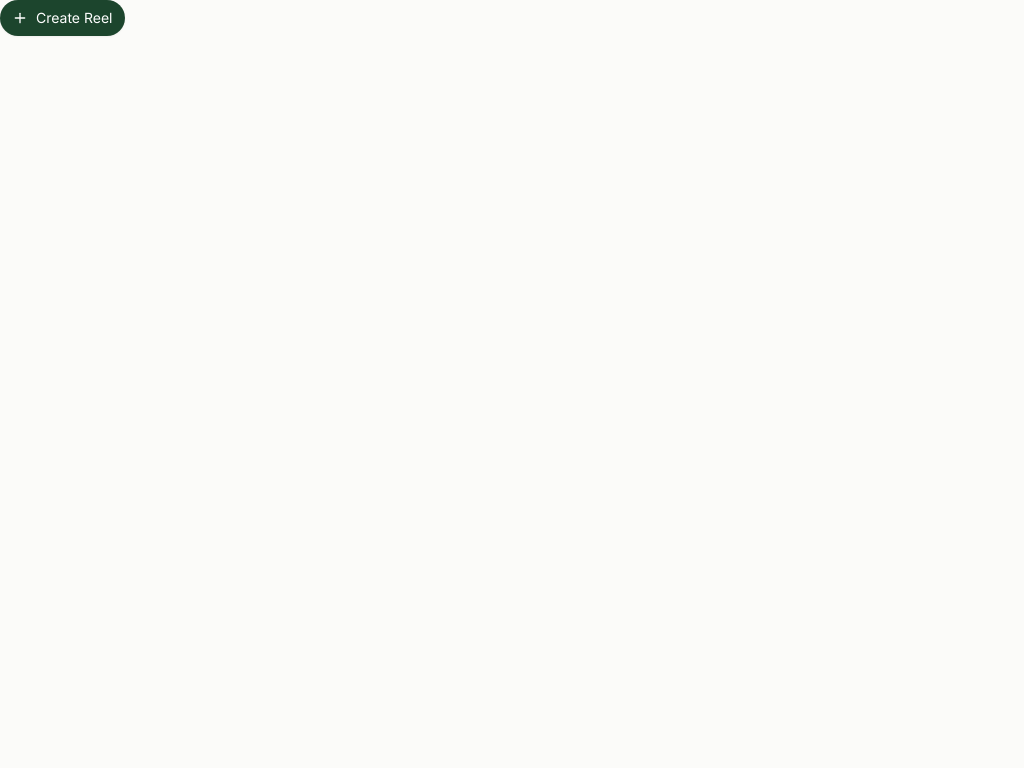
Test: CreateBookReelDialog › switches visibility between public, friends, and unlisted
The image size is (1024, 768).
Click the button "Create Reel". click: (62, 18)
box: [0,0,124,36]
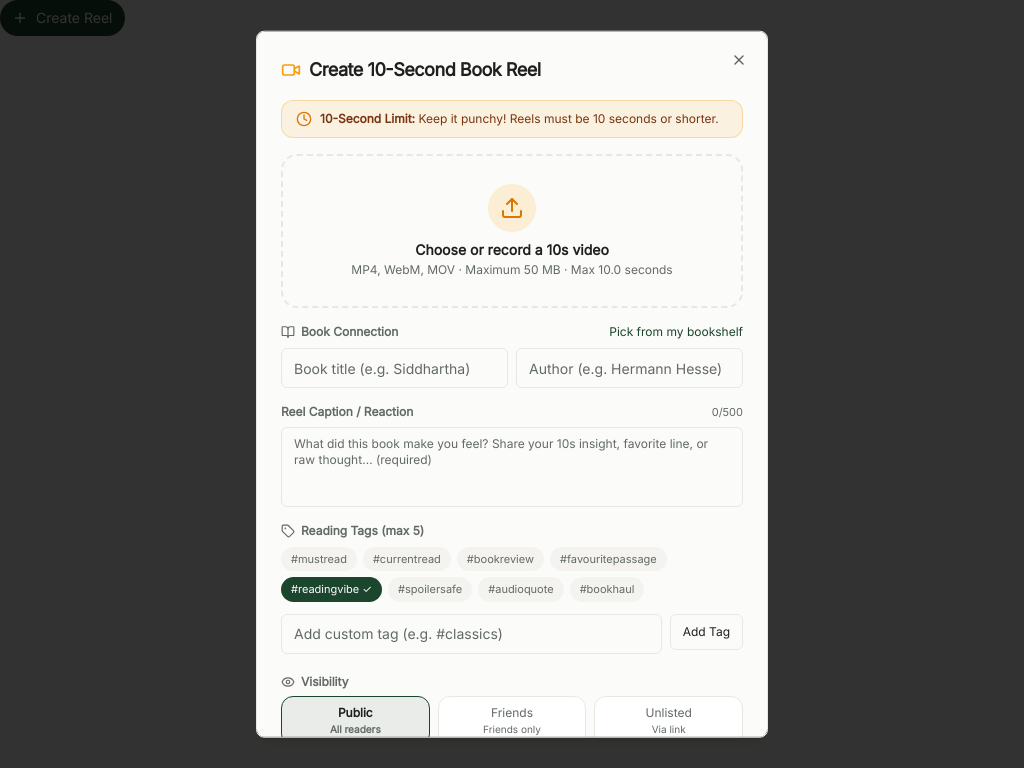
Click the button "Friends Friends only". click: (512, 720)
box: [438,695,586,745]
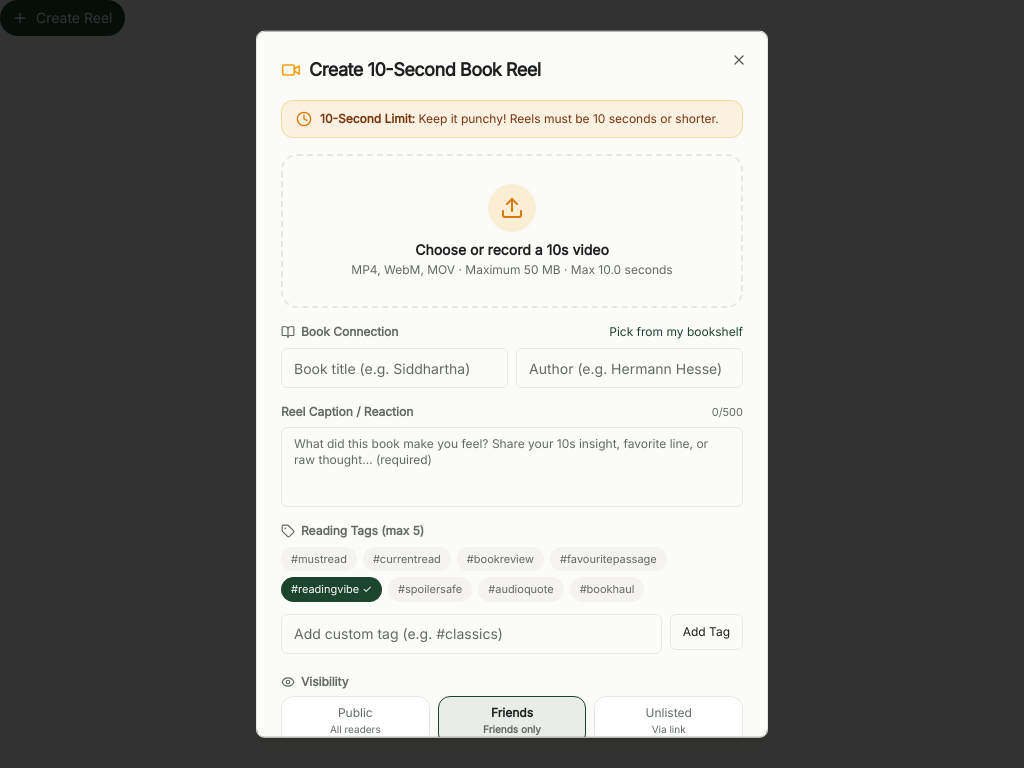
Check: the button "Friends Friends only" has class "border-[hsl(var(--brand-primary))]", box [438,695,586,737]
